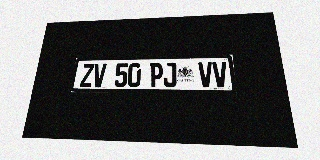0: (127, 63, 141, 87)
5: (114, 63, 128, 87)
J: (163, 62, 177, 87)
P: (149, 63, 163, 87)
V: (212, 62, 228, 87), (198, 62, 213, 87), (92, 63, 107, 87)
Z: (80, 64, 95, 87)
